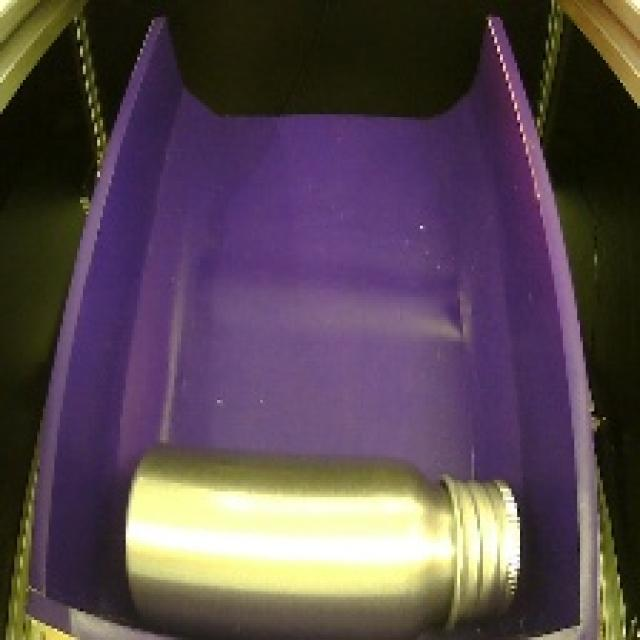metal: (112, 430, 537, 640)
